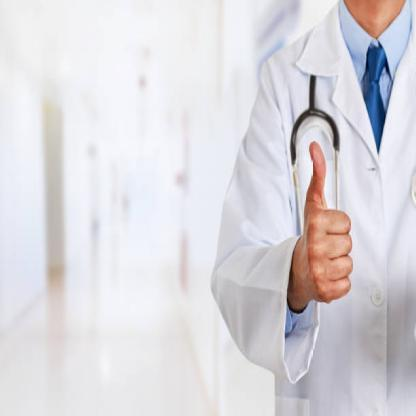thumb_up: (301, 140, 354, 306)
